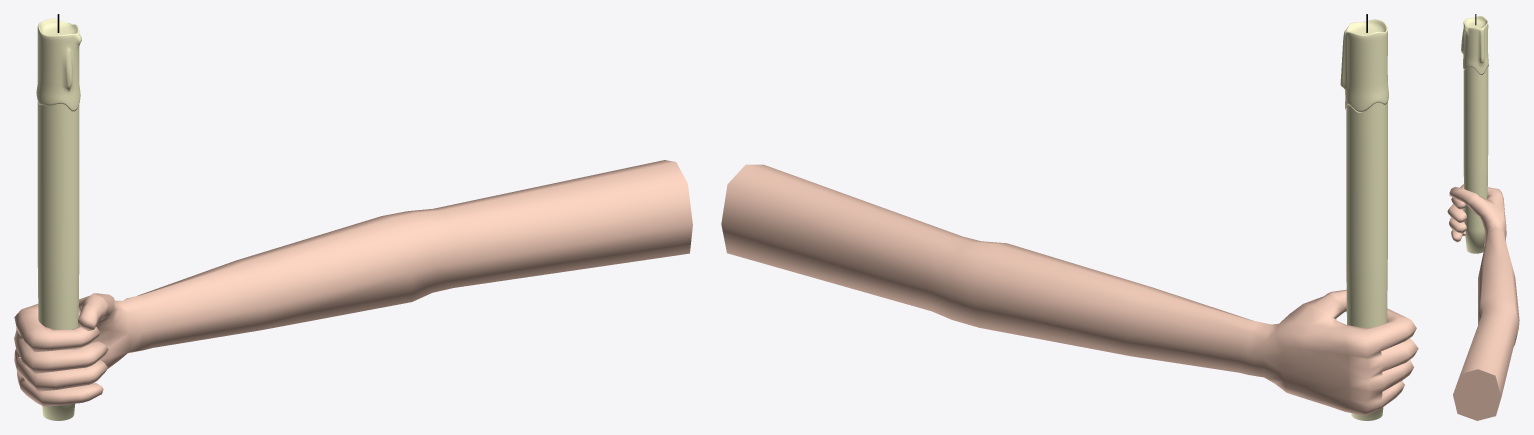
The model's file is ArmCandleN.FBX.
3 views of the same model, side by side, from view 1: azimuth 30°, elevation 25°; view 2: azimuth 150°, elevation 25°; view 3: azimuth 270°, elevation 25° (orthographic). The views are drawn at different scales.
Visible parts, largest first — view 1: Arm, CandleBottom, CandleTop; view 2: Arm, CandleBottom, CandleTop; view 3: Arm, CandleBottom, CandleTop.
Boxes of the visible parts, x1=… form: Arm: x1=14, y1=160, x2=692, y2=406; CandleBottom: x1=37, y1=101, x2=79, y2=420; CandleTop: x1=36, y1=18, x2=81, y2=112; Arm: x1=721, y1=164, x2=1418, y2=415; CandleBottom: x1=1346, y1=102, x2=1387, y2=420; CandleTop: x1=1340, y1=19, x2=1388, y2=112; Arm: x1=1447, y1=184, x2=1519, y2=420; CandleBottom: x1=1463, y1=67, x2=1488, y2=253; CandleTop: x1=1461, y1=16, x2=1488, y2=75.
Bounding box in the file's own units: 106 × 60.97 × 16.92.
Materials: 1 (1 with a texture image).
